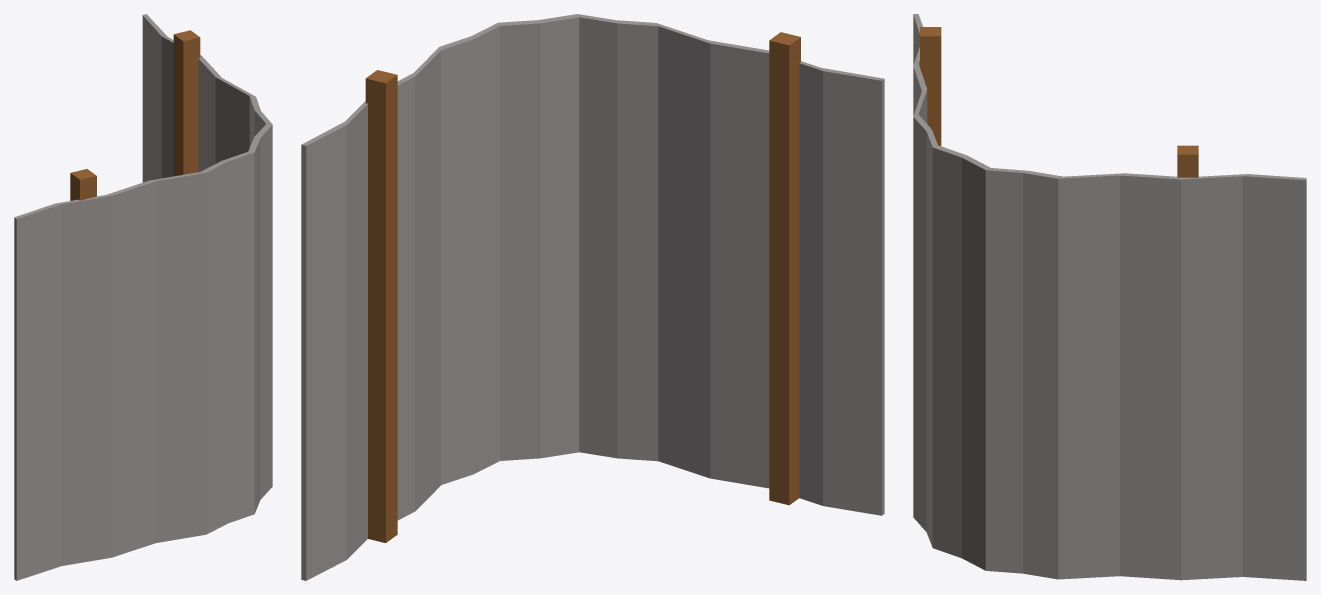
Rendered from Fence_2.fbx.
3 views of the same model, side by side, from view 1: azimuth 30°, elevation 25°; view 2: azimuth 150°, elevation 25°; view 3: azimuth 270°, elevation 25° (orthographic). The views are drawn at different scales.
Parts seen in each view (by area): view 1: Fence_2; view 2: Fence_2; view 3: Fence_2.
Part boxes in pixels (x1,y1,x2,y2): Fence_2: (14, 14, 272, 580); Fence_2: (301, 14, 884, 580); Fence_2: (913, 14, 1306, 580).
Bounding box in the file's own units: 214 × 254 × 214.
